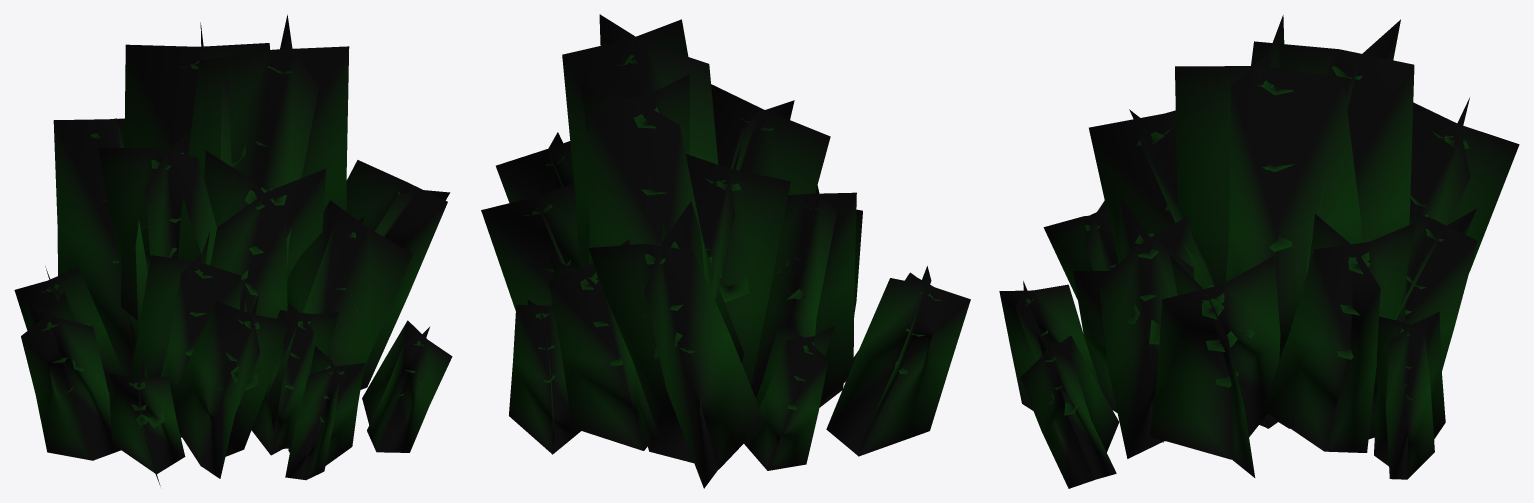
File: FlowersClump-RHEP_B.fbx
3 views of the same model, side by side, from view 1: azimuth 30°, elevation 25°; view 2: azimuth 150°, elevation 25°; view 3: azimuth 270°, elevation 25° (orthographic). The views are drawn at different scales.
Visible parts, largest first — view 1: FBCRHEP_LOD0; view 2: FBCRHEP_LOD0; view 3: FBCRHEP_LOD0.
Boxes of the visible parts, bbox=[...] form: FBCRHEP_LOD0: bbox=[14, 14, 452, 485]; FBCRHEP_LOD0: bbox=[481, 14, 970, 488]; FBCRHEP_LOD0: bbox=[999, 15, 1519, 488].
Size of what is drawn, in the model's own units: 2.66 by 2.07 by 2.35.
